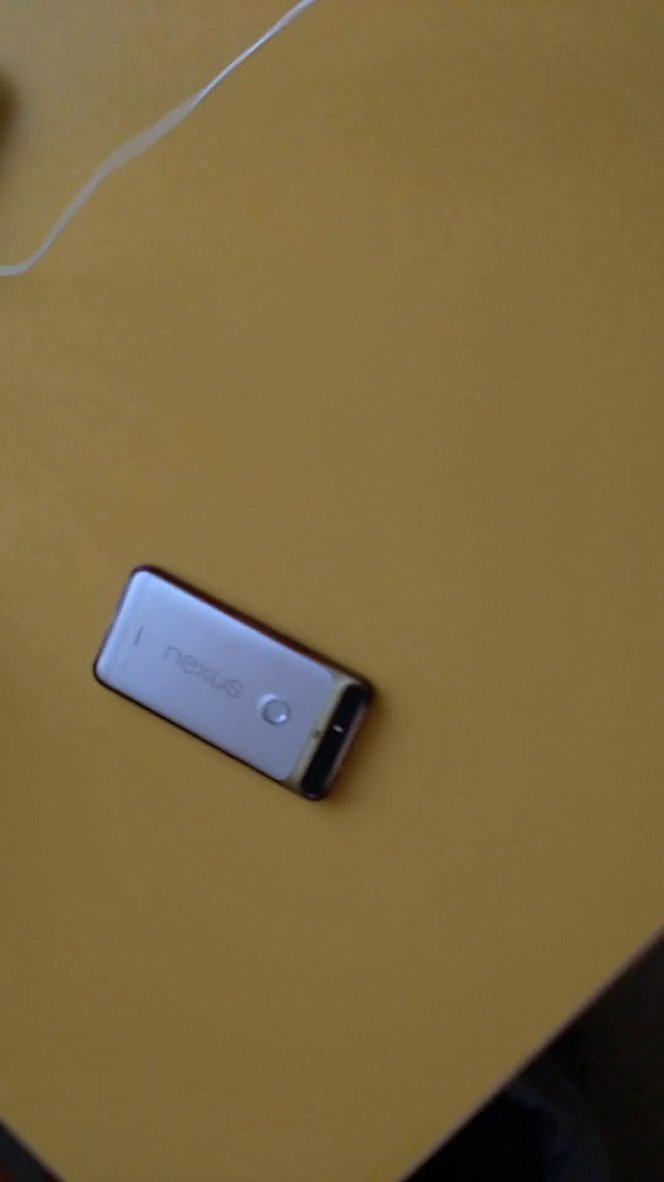phone: (76, 552, 407, 811)
